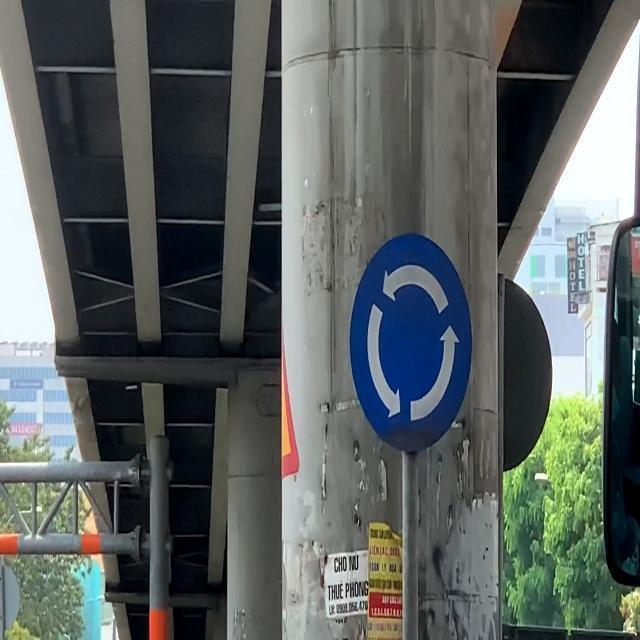303-noi-giao-nhau-chay-theo-vong-xuyen: (348, 232, 472, 449)
